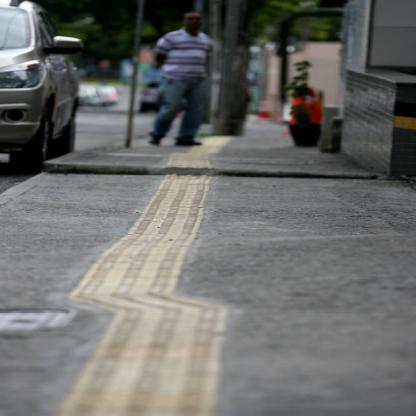podotacti: (58, 171, 229, 412)
